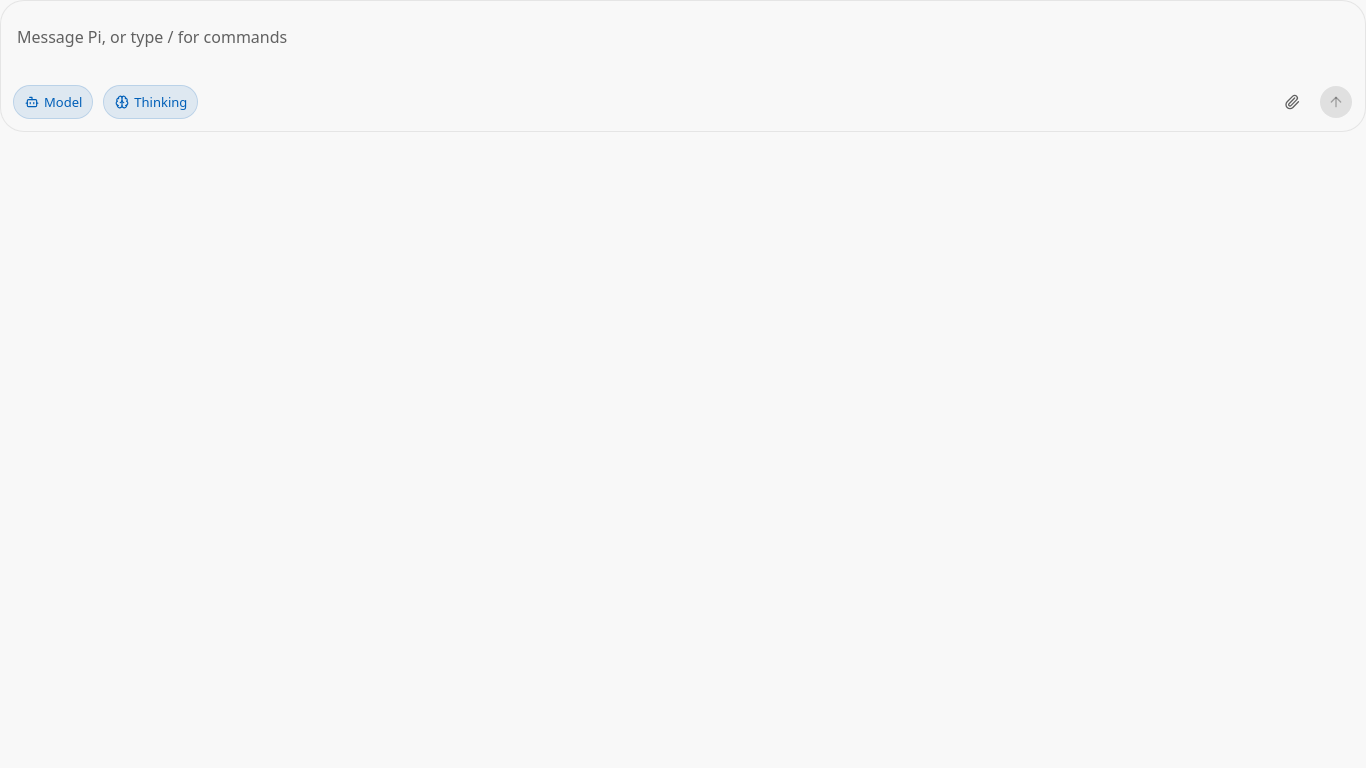
Test: the command menu › takes the row under the keyboard with Tab
The width and height of the screenshot is (1366, 768).
Type "/" into the text box named "Your message" at (683, 43), box [1, 13, 1365, 73]
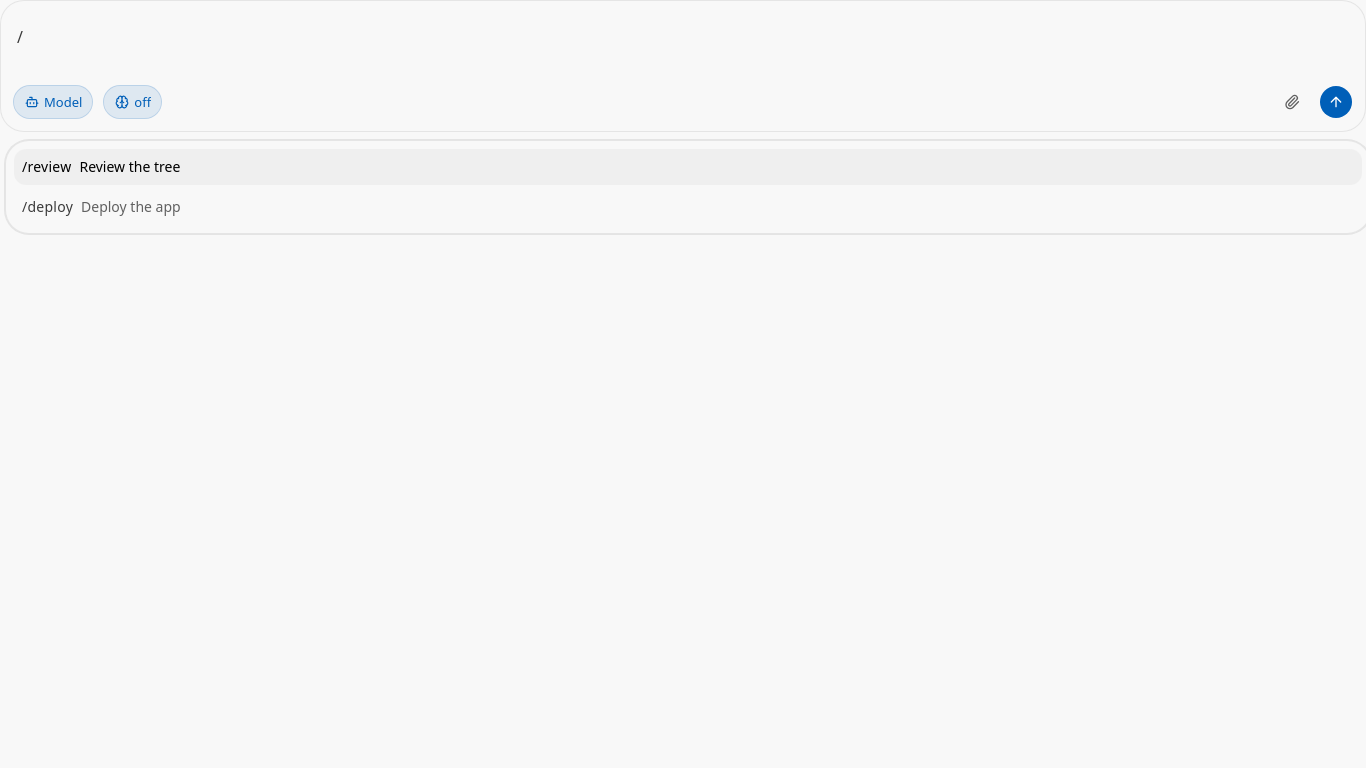
Result: the text "/review" is shown at [22, 157, 71, 177]
Replace the text in the text box named "Your message" with "/de" at (683, 43), box [1, 13, 1365, 73]
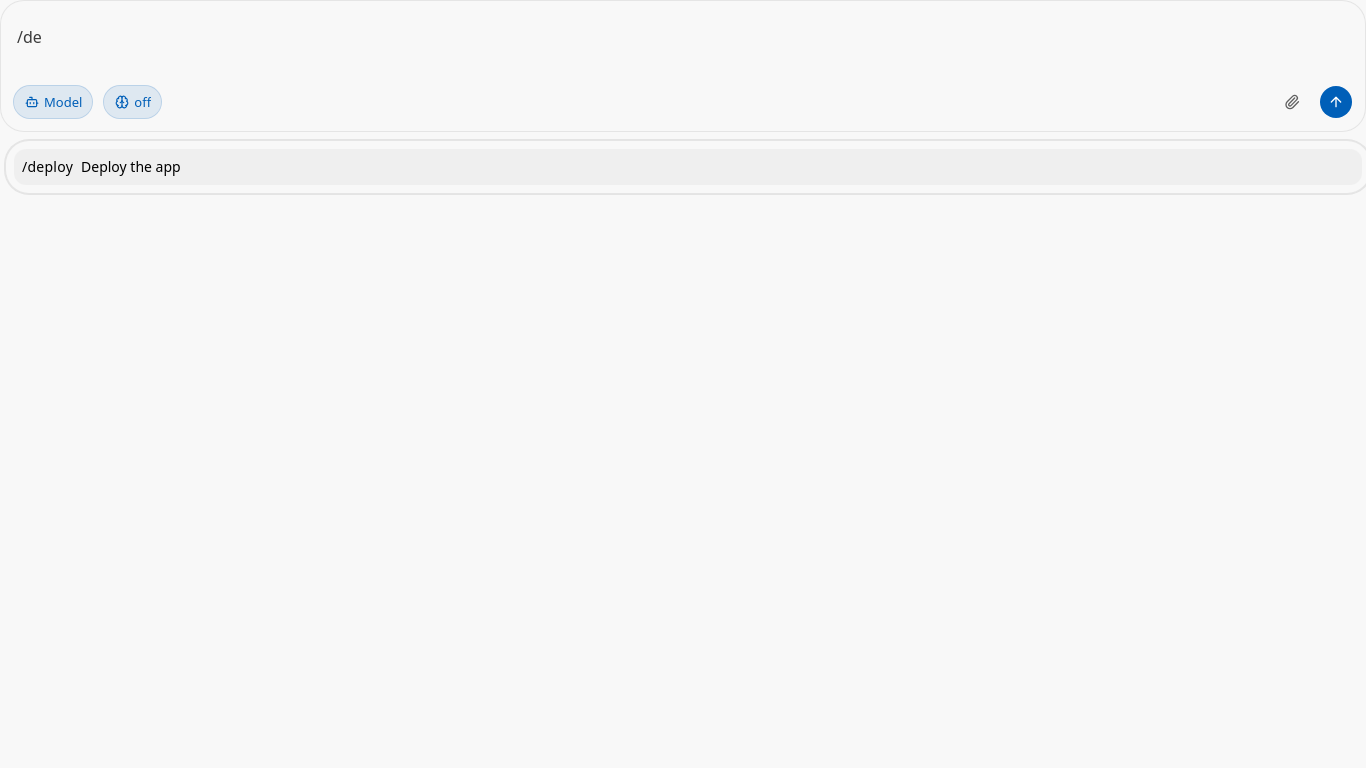
Result: the text "/deploy" is shown at [22, 157, 73, 177]
Press Tab in the text box named "Your message", box [1, 13, 1365, 73]
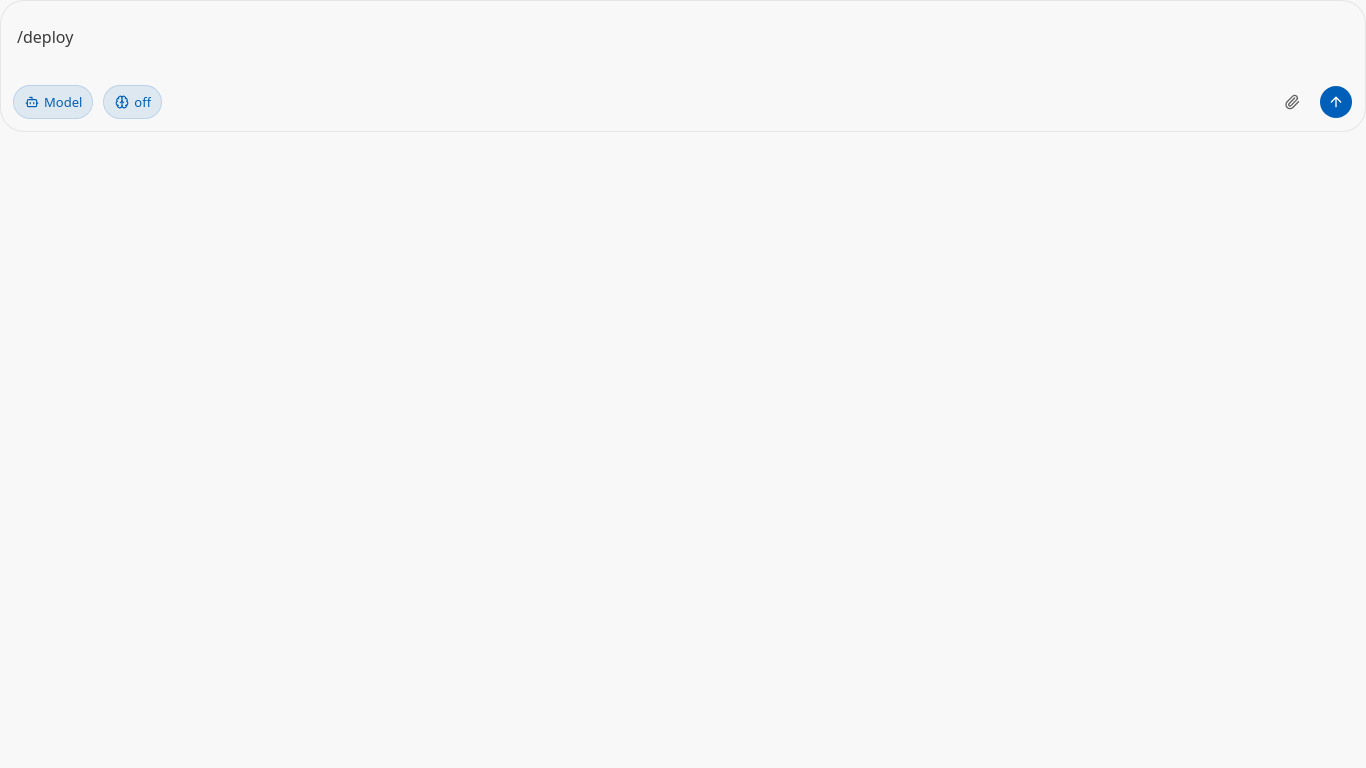
Result: the text box named "Your message" holds "/deploy " at [1, 13, 1365, 73]
